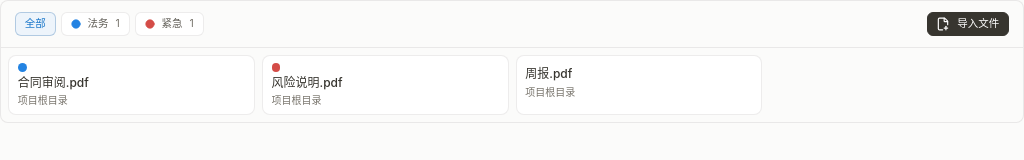
Scenario: ManagedDocumentSection › filters documents with OR logic across multiple selected tags
What coordinates should you click on to do the following:
click the button "法务 1"
I would click on:
 (95, 24)
Its box is [61, 12, 130, 36].
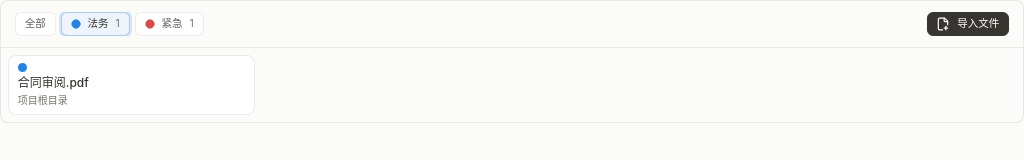
expect the text "合同审阅.pdf" is shown: met, box [18, 75, 89, 91]
expect the button "风险说明.pdf" is gone: met
expect the button "周报.pdf" is gone: met
What coordinates should you click on to do the following:
click the button "紧急 1"
I would click on:
 (169, 24)
Its box is [135, 12, 204, 36].
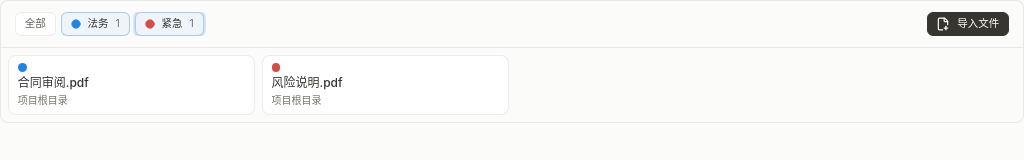
expect the text "合同审阅.pdf" is shown: met, box [18, 75, 89, 91]
expect the text "风险说明.pdf" is shown: met, box [272, 75, 342, 91]
What coordinates should you click on to do the following:
click the button "全部"
I would click on:
 (35, 24)
Its box is [15, 12, 56, 36].
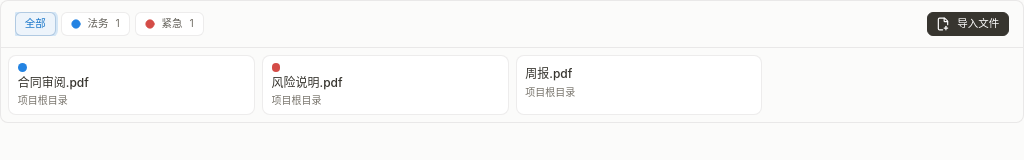
expect the text "周报.pdf" is shown: met, box [525, 66, 572, 82]
